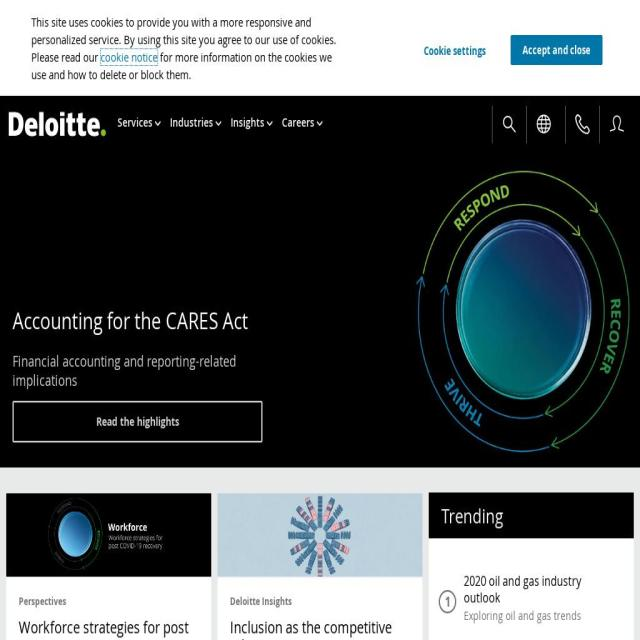button: (0, 155, 640, 468), (445, 539, 617, 640), (7, 493, 212, 505), (218, 493, 422, 505), (165, 111, 226, 132), (112, 111, 166, 132), (225, 111, 278, 132), (522, 42, 590, 58), (277, 111, 327, 132), (424, 43, 486, 59), (536, 110, 556, 138)
heading: (12, 352, 262, 391), (441, 493, 634, 535), (12, 305, 262, 336), (464, 572, 617, 606), (19, 616, 189, 640), (230, 618, 408, 640), (100, 68, 232, 88), (464, 608, 617, 624), (51, 68, 101, 88)
image: (0, 58, 352, 116), (7, 493, 212, 578), (218, 493, 422, 578), (9, 112, 106, 136)
link: (19, 595, 199, 609), (230, 595, 410, 609), (100, 49, 158, 65), (575, 114, 590, 134)
text: (31, 14, 336, 65), (12, 401, 262, 443), (31, 49, 332, 83), (51, 88, 332, 104), (169, 111, 213, 132), (117, 111, 152, 132), (230, 111, 264, 132), (282, 111, 314, 132), (502, 114, 517, 134)
